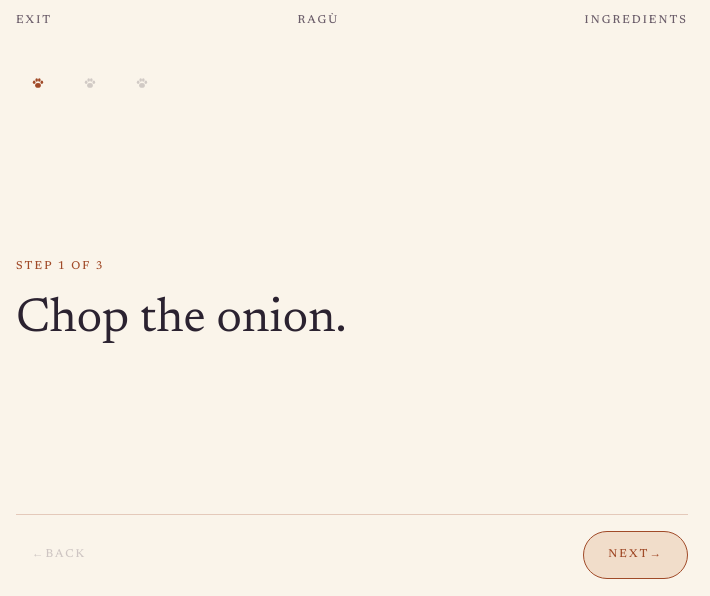
Scenario: CookMode › toggles the ingredient peek
Expected: the text "salt" is not shown
Click the button "Ingredients" at (636,21), box [585,12,688,29]
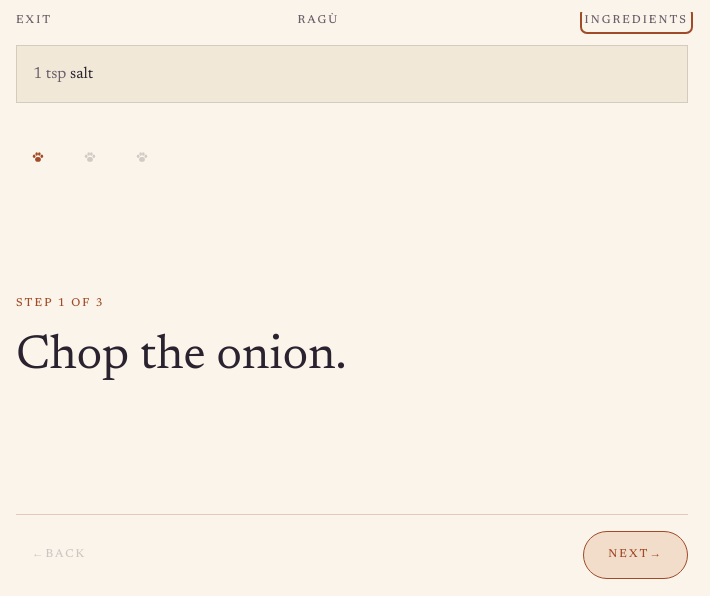
Now the list item "salt" is shown, box [70,66,93,82]
